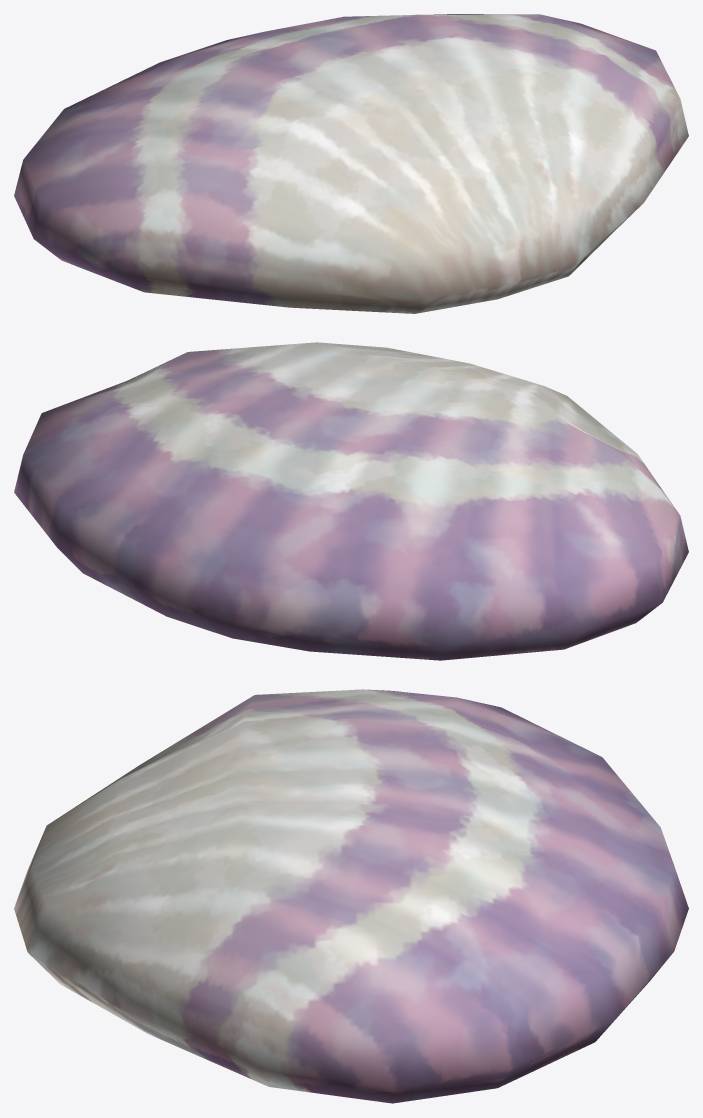
The model's file is SeaShell02.fbx.
The picture shows the model from 3 angles, top to bottom: view 1: azimuth 30°, elevation 25°; view 2: azimuth 150°, elevation 25°; view 3: azimuth 270°, elevation 25°; orthographic projection. The views are drawn at different scales.
Visible parts, largest first — view 1: seashell1_low; view 2: seashell1_low; view 3: seashell1_low.
Boxes of the visible parts, x1,y1,x2,y2 form: seashell1_low: (14,14,688,313); seashell1_low: (14,342,688,660); seashell1_low: (14,689,688,1103).
Size of the model in its own units: 45.25 by 36.19 by 9.78.
1 material, 1 textured.
